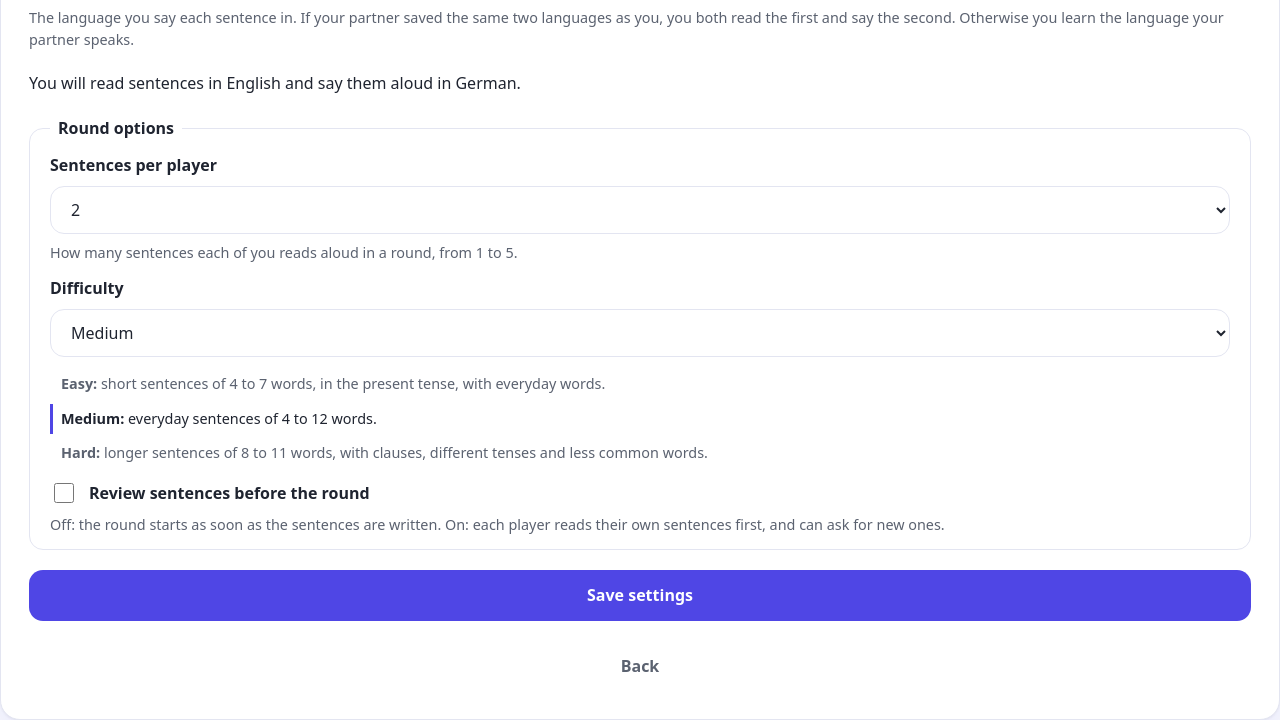
Test case: joining through an invite link › goes back to the menu from the settings without joining
(page scrolled)
Click the button "Back": (640, 666) [29, 641, 1251, 691]
(page scrolled)
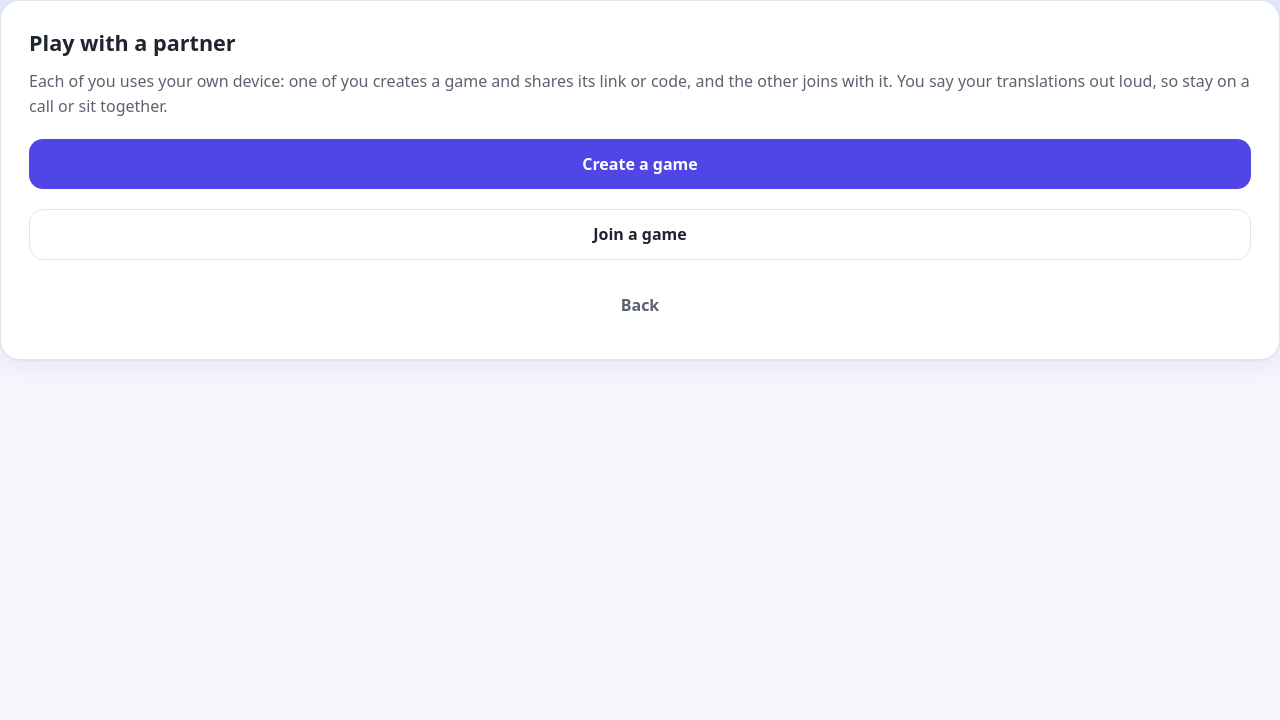
Result: the button "Create a game" is shown at [29, 139, 1251, 190]
